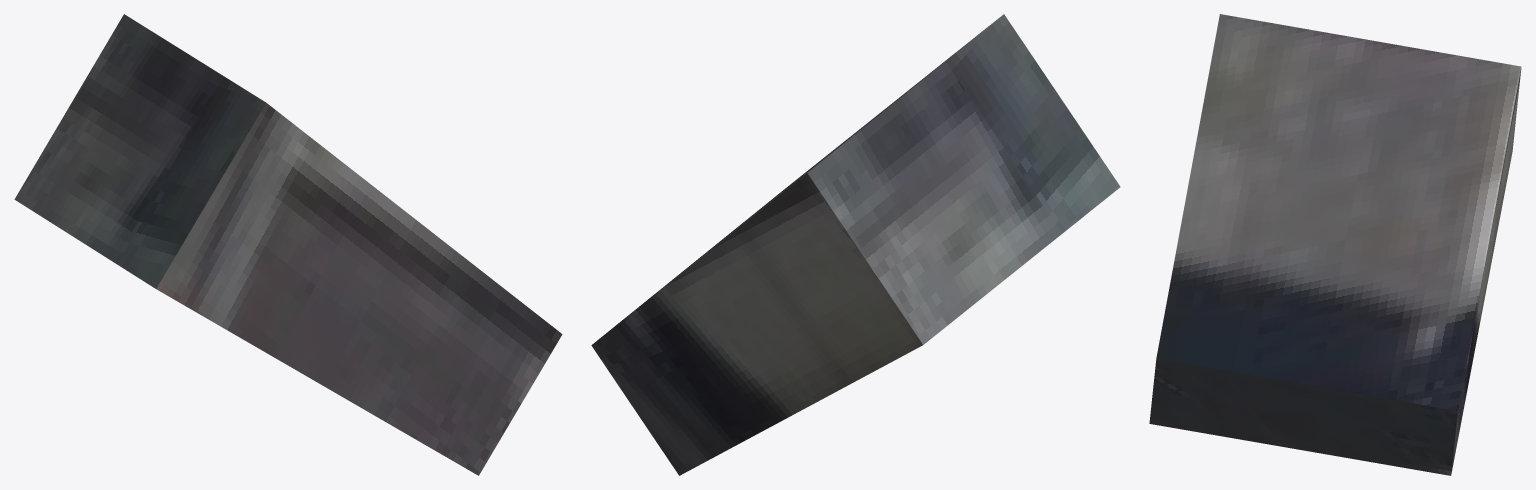
The picture shows the model from 3 angles, left to right: view 1: azimuth 30°, elevation 25°; view 2: azimuth 150°, elevation 25°; view 3: azimuth 270°, elevation 25°; orthographic projection. The views are drawn at different scales.
Visible parts, largest first — view 1: BAG_0599100010000196; view 2: BAG_0599100010000196; view 3: BAG_0599100010000196.
Boxes of the visible parts, x1,y1,x2,y2 form: BAG_0599100010000196: (14,14,562,475); BAG_0599100010000196: (591,14,1120,475); BAG_0599100010000196: (1149,14,1521,475).
Bounding box in the file's own units: 5.18 × 5.25 × 4.72.
2 materials, 1 textured.
